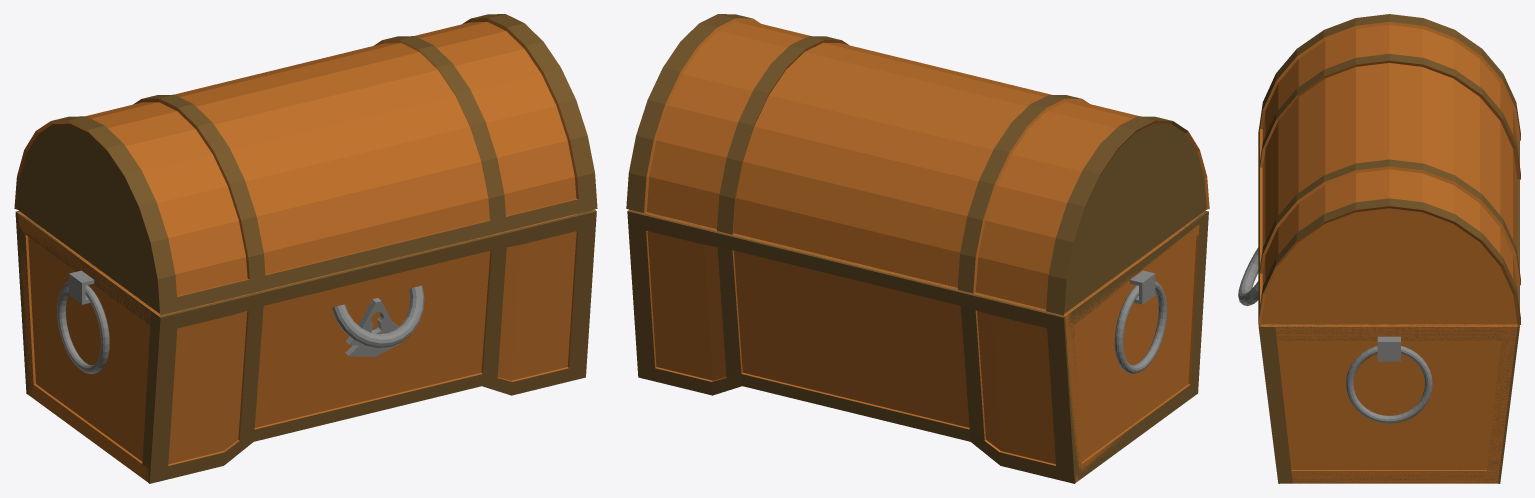
File: chest.glb
3 views of the same model, side by side, from view 1: azimuth 30°, elevation 25°; view 2: azimuth 150°, elevation 25°; view 3: azimuth 270°, elevation 25° (orthographic). The views are drawn at different scales.
Parts seen in each view (by area): view 1: ChestTrigger, ChestBase, Torus.002, ChestHandle01, ChestLock; view 2: ChestTrigger, ChestBase, ChestHandle01; view 3: ChestTrigger, ChestBase, ChestHandle02, Torus.002, ChestMetal02.
Boxes of the visible parts, x1,y1,x2,y2 form: ChestTrigger: [14, 14, 597, 315]; ChestBase: [15, 209, 596, 483]; Torus.002: [332, 285, 424, 347]; ChestHandle01: [57, 281, 109, 373]; ChestLock: [345, 298, 401, 357]; ChestTrigger: [626, 14, 1209, 315]; ChestBase: [627, 209, 1208, 483]; ChestHandle01: [1114, 281, 1167, 373]; ChestTrigger: [1258, 14, 1520, 324]; ChestBase: [1258, 141, 1519, 483]; ChestHandle02: [1346, 346, 1432, 423]; Torus.002: [1238, 247, 1258, 306]; ChestMetal02: [1377, 336, 1400, 361].
Bounding box in the file's own units: 2.52 × 1.62 × 1.49.
